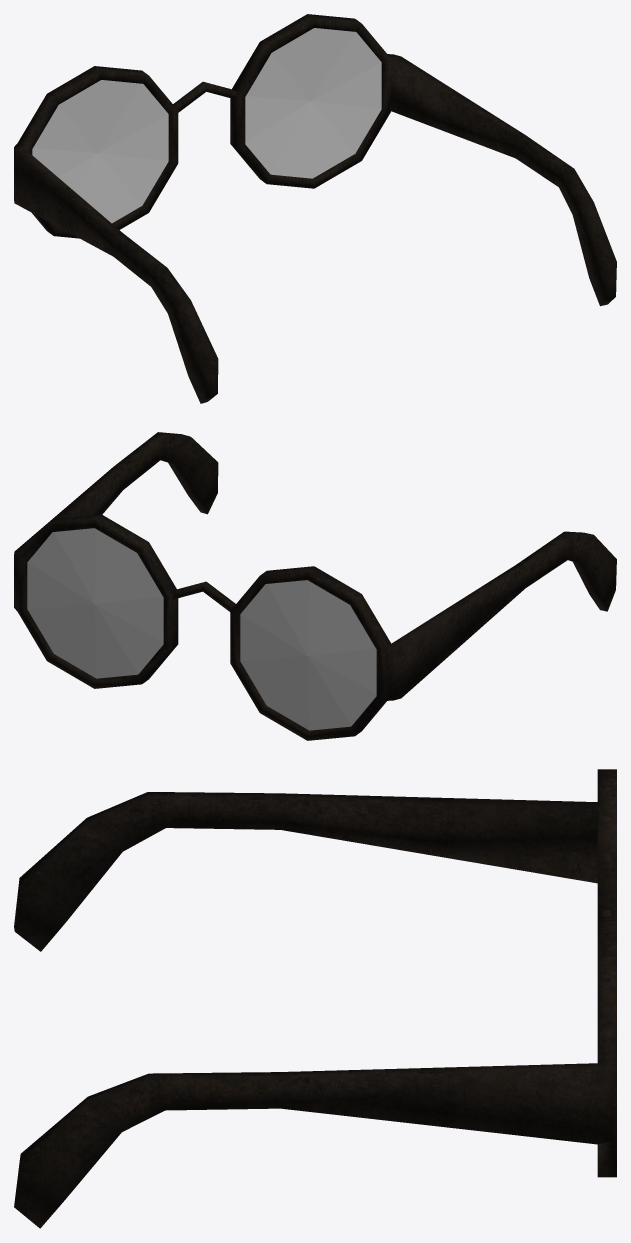
The model's file is spectacles.DAE.
3 views of the same model, one above another, from view 1: azimuth 30°, elevation 25°; view 2: azimuth 150°, elevation 25°; view 3: azimuth 270°, elevation 25° (orthographic). The views are drawn at different scales.
Visible parts, largest first — view 1: Cylinder002, Object001; view 2: Object001, Cylinder002; view 3: Cylinder002.
Part boxes in pixels (x1,y1,x2,y2): Cylinder002: (14,14,616,403); Object001: (32,28,381,223); Object001: (27,528,376,730); Cylinder002: (14,432,616,740); Cylinder002: (14,769,616,1228).
Size of the model in its own units: 0.2557 by 0.0993 by 0.2253.
